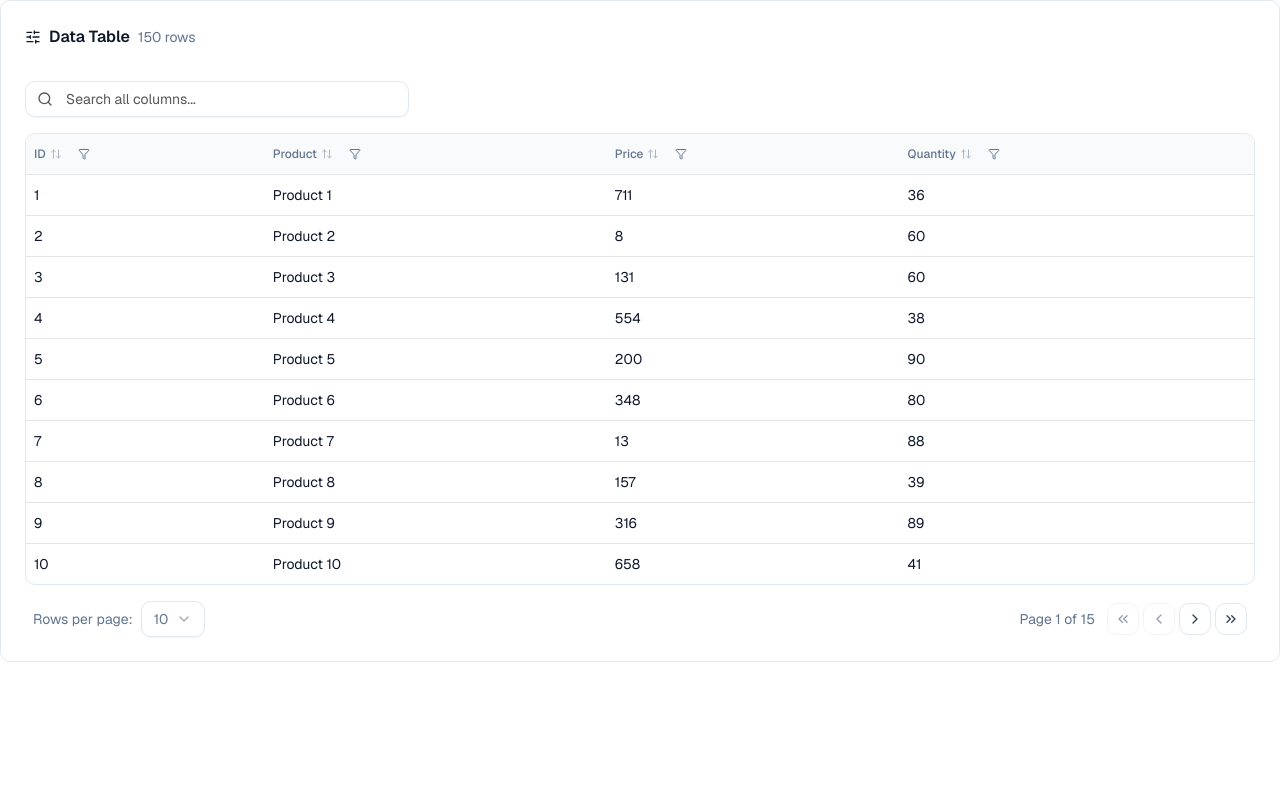
Scenario: ReportDataTable Component › pagination (AC-23.6.4) › first/last page buttons work
The image size is (1280, 800).
Click the button with test id "last-page-button" at (1231, 618), box [1215,602,1247,634]
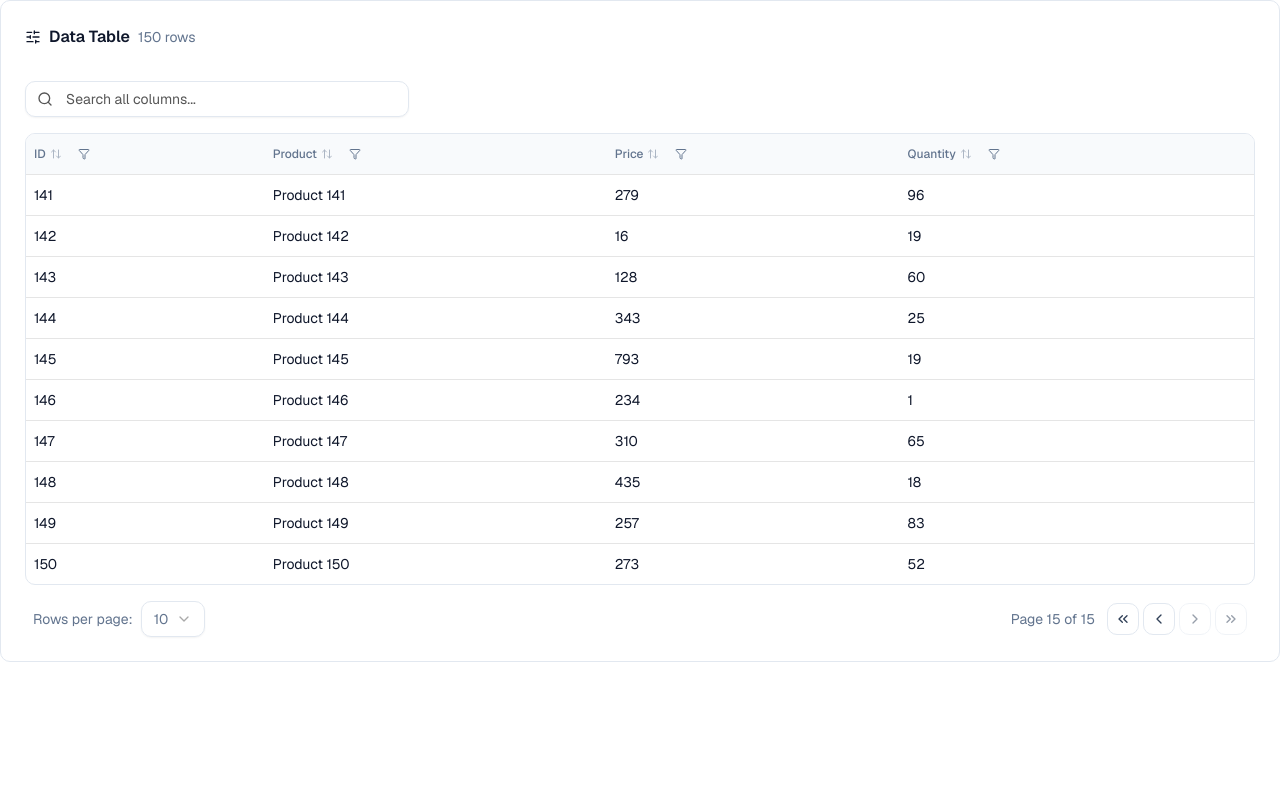
expect the text "Page 15 of 15" is shown: met, box [1011,608,1095,628]
Click the button with test id "first-page-button" at (1123, 618), box [1107,602,1139,634]
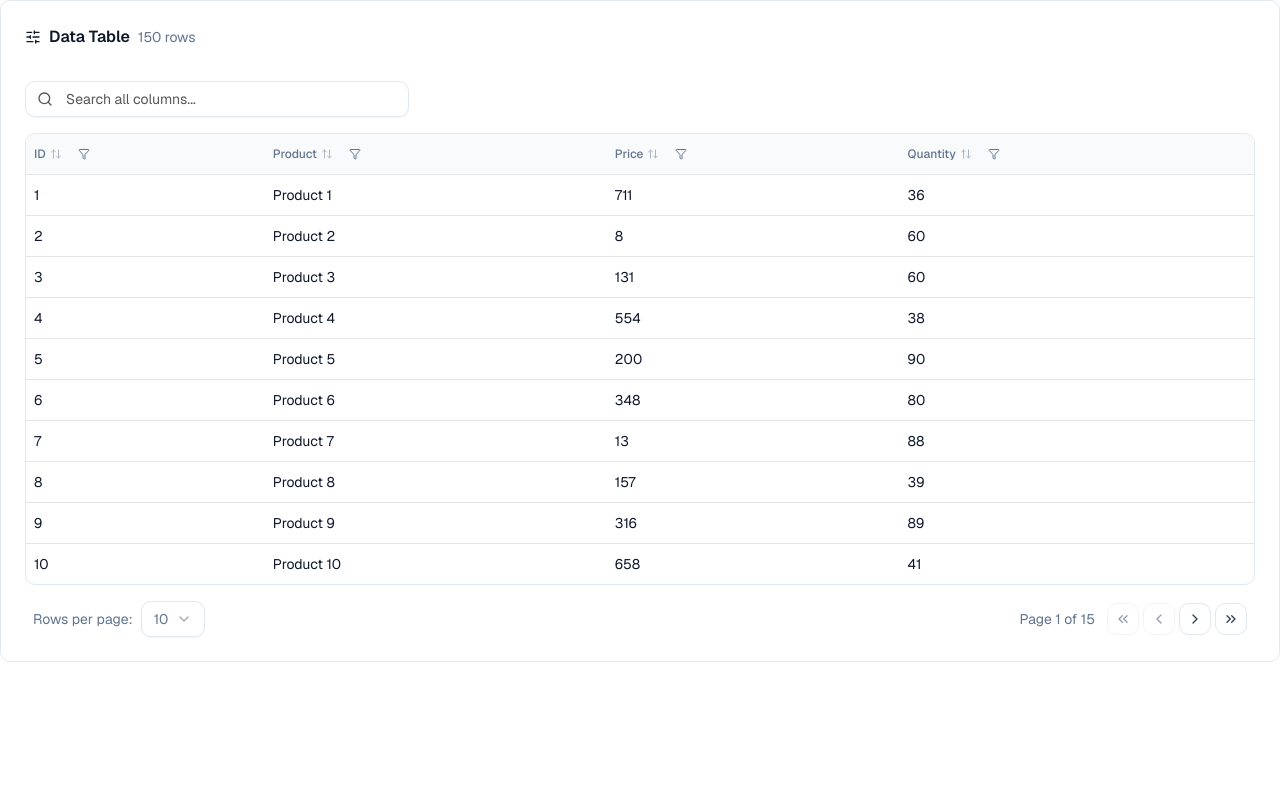
expect the text "Page 1 of 15" is shown: met, box [1019,608,1095,628]
